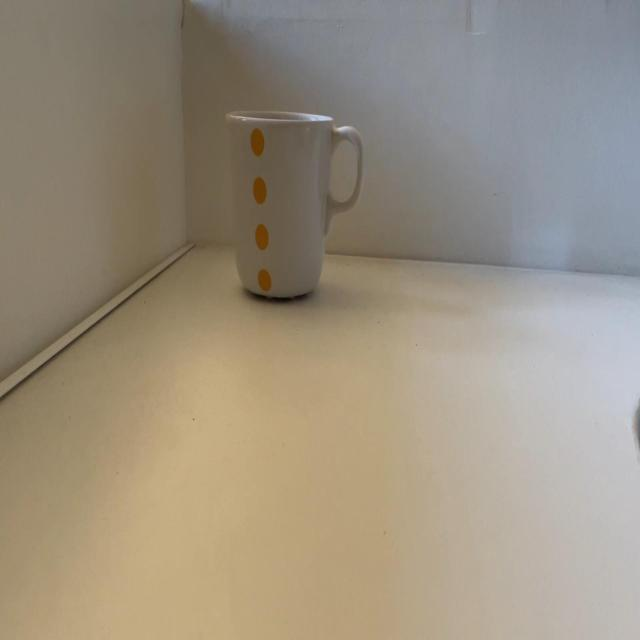cup: (231, 117, 368, 300)
